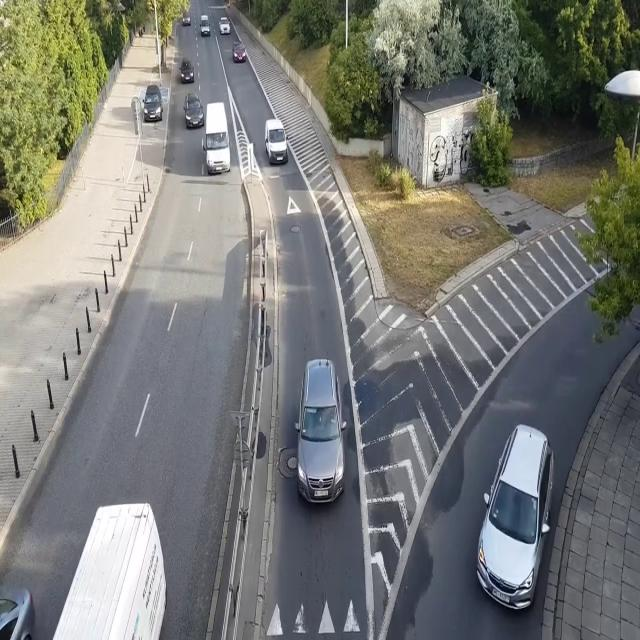car: (476, 421, 556, 616), (294, 356, 348, 508), (0, 583, 38, 640), (184, 91, 204, 129), (142, 85, 163, 121), (178, 57, 195, 84), (232, 40, 246, 63), (219, 16, 231, 34), (182, 9, 191, 26)
van: (52, 501, 166, 640), (202, 102, 232, 174), (265, 118, 289, 166), (199, 14, 211, 37)
